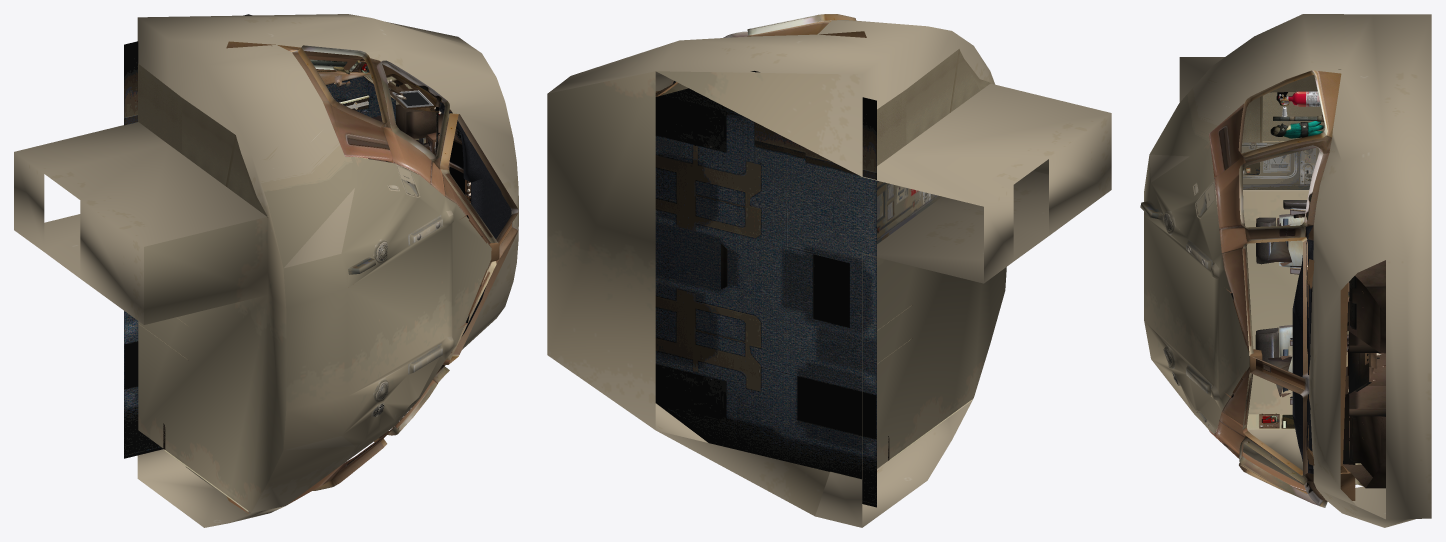
File: b777-300er-cockpit.glb
3 renders of one model, left to right at view 1: azimuth 30°, elevation 25°; view 2: azimuth 150°, elevation 25°; view 3: azimuth 270°, elevation 25°, orthographic. The views are drawn at different scales.
Size of what is drawn, in the model's own units: 3.72 by 3.7 by 2.18.
108 materials, 92 textured.
